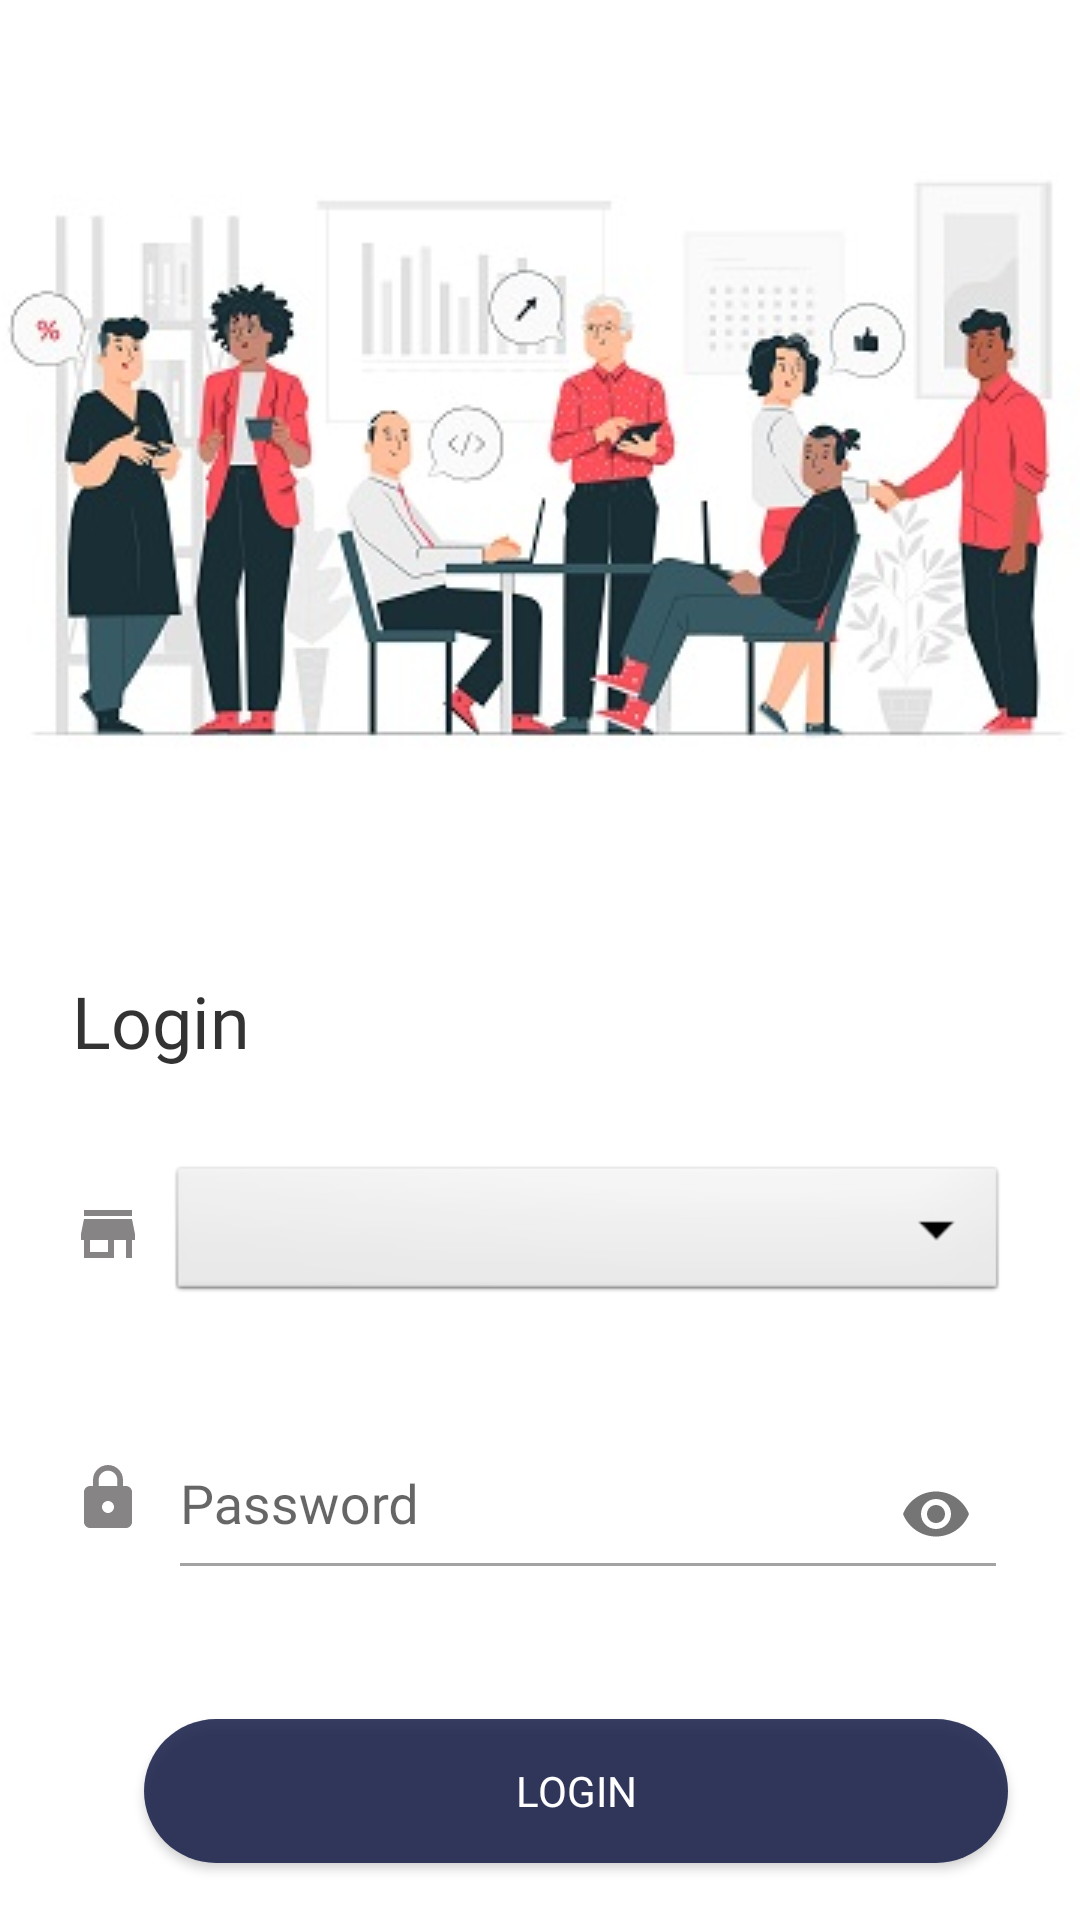

Where to tap for icons on this 1080 × 1920 app screen, as (x,y):
lock: (108,1496)
store: (108,1234)
